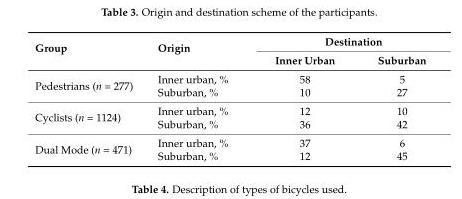table: (34, 34, 425, 162)
table column: (34, 34, 144, 162), (144, 34, 250, 162), (250, 34, 355, 162), (355, 34, 425, 162)
table column header: (34, 34, 425, 69)
table row: (34, 50, 425, 69), (34, 34, 425, 50), (34, 69, 425, 85), (34, 85, 425, 101), (34, 101, 425, 117), (34, 117, 425, 133), (34, 133, 425, 149), (34, 149, 425, 162)
table spanning cell: (34, 34, 144, 69), (144, 34, 250, 69), (34, 69, 144, 101), (34, 101, 144, 133), (34, 133, 144, 162), (250, 34, 425, 50)
